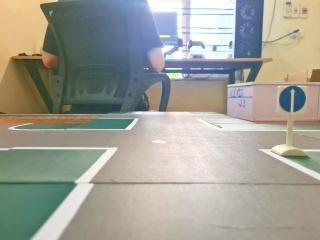straight: (277, 82, 309, 114)
